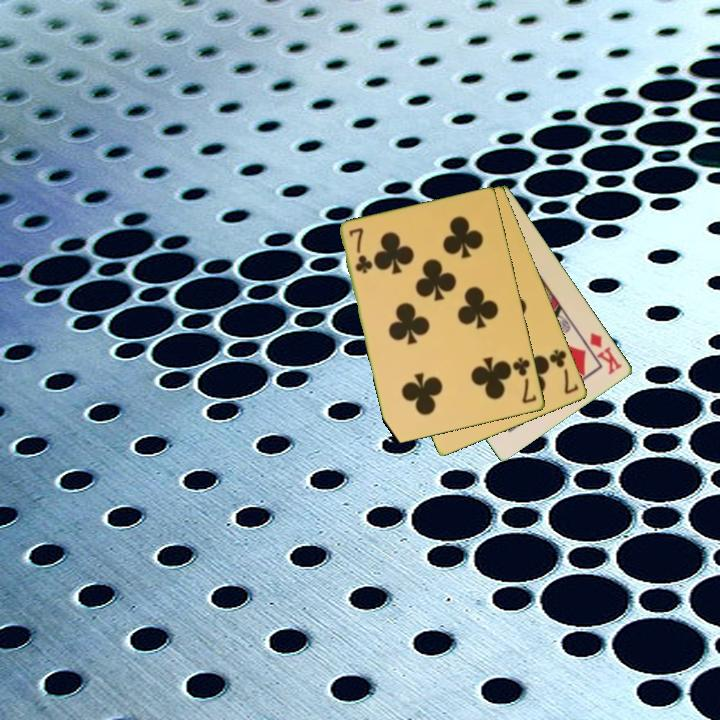7c: (546, 346, 582, 397), (509, 354, 540, 407), (346, 225, 374, 277)
Kd: (586, 329, 626, 378)
